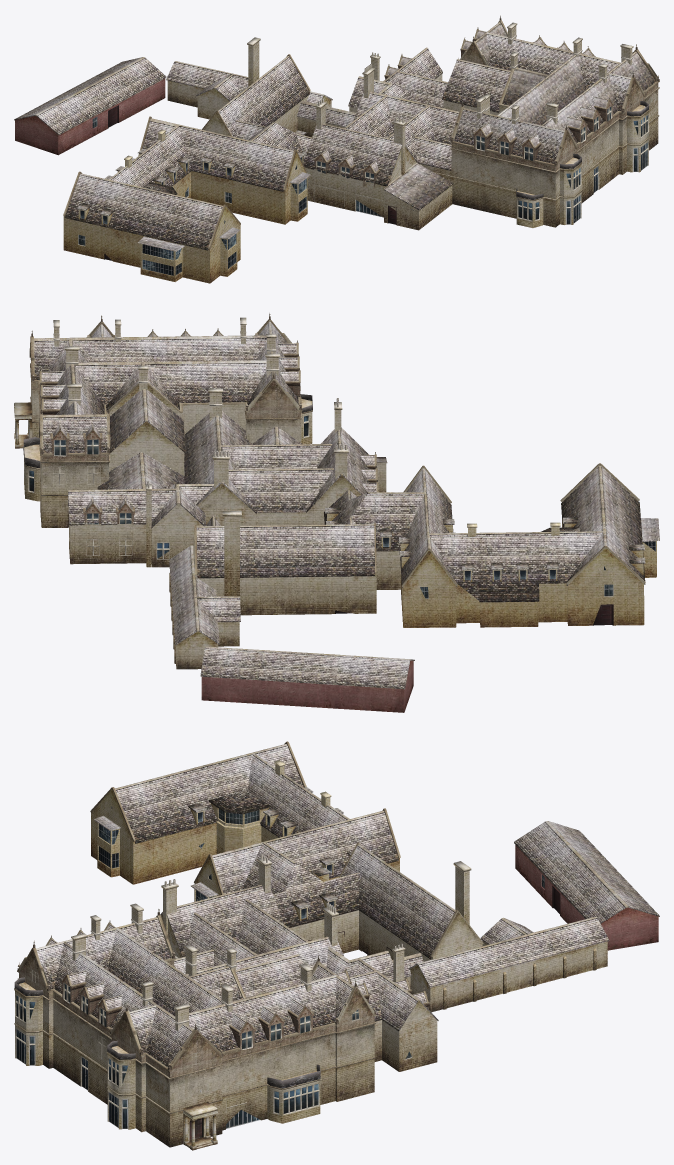
Rendered from amport.dae.
3 views of the same model, one above another, from view 1: azimuth 30°, elevation 25°; view 2: azimuth 150°, elevation 25°; view 3: azimuth 270°, elevation 25° (orthographic). The views are drawn at different scales.
Visible parts, largest first — view 1: main_amport; view 2: main_amport; view 3: main_amport.
Boxes of the visible parts, <box> form: main_amport: <box>14,15,659,283</box>; main_amport: <box>14,313,659,712</box>; main_amport: <box>14,741,659,1150</box>.
Size of the model in its own units: 80.74 by 13.92 by 64.59.
Materials: 1 (1 with a texture image).
